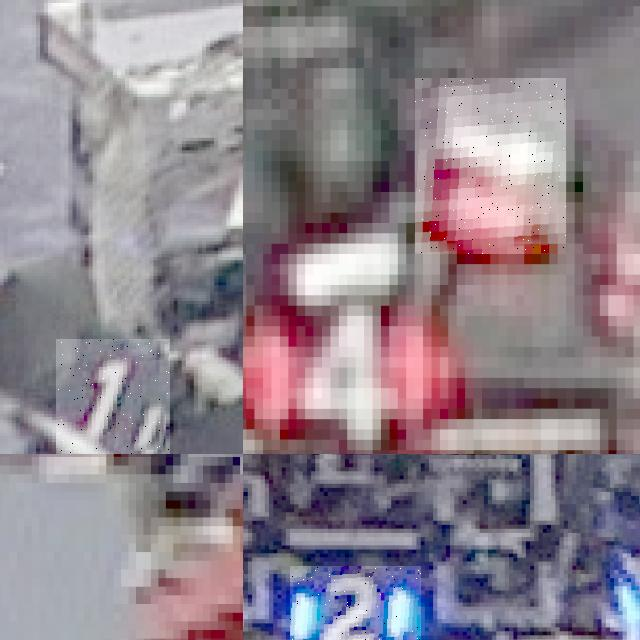B2: (290, 565, 420, 640)
R4: (243, 295, 448, 429), (415, 78, 566, 254), (56, 338, 169, 454)
